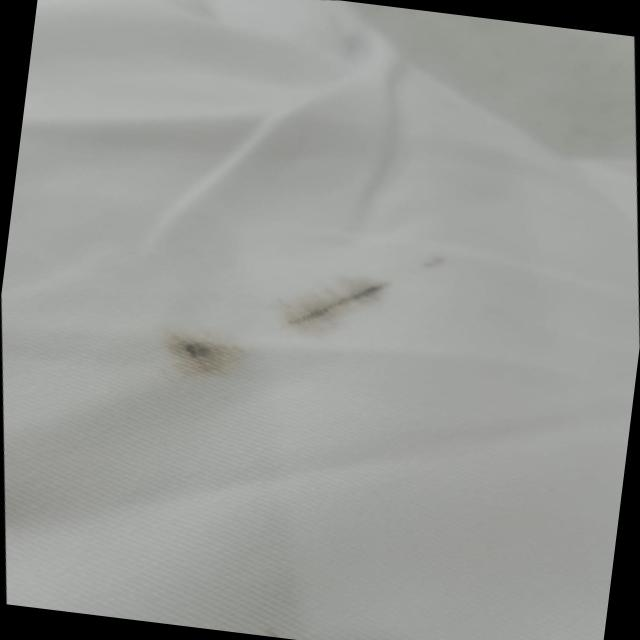stain: (142, 210, 481, 416), (244, 603, 415, 640)
